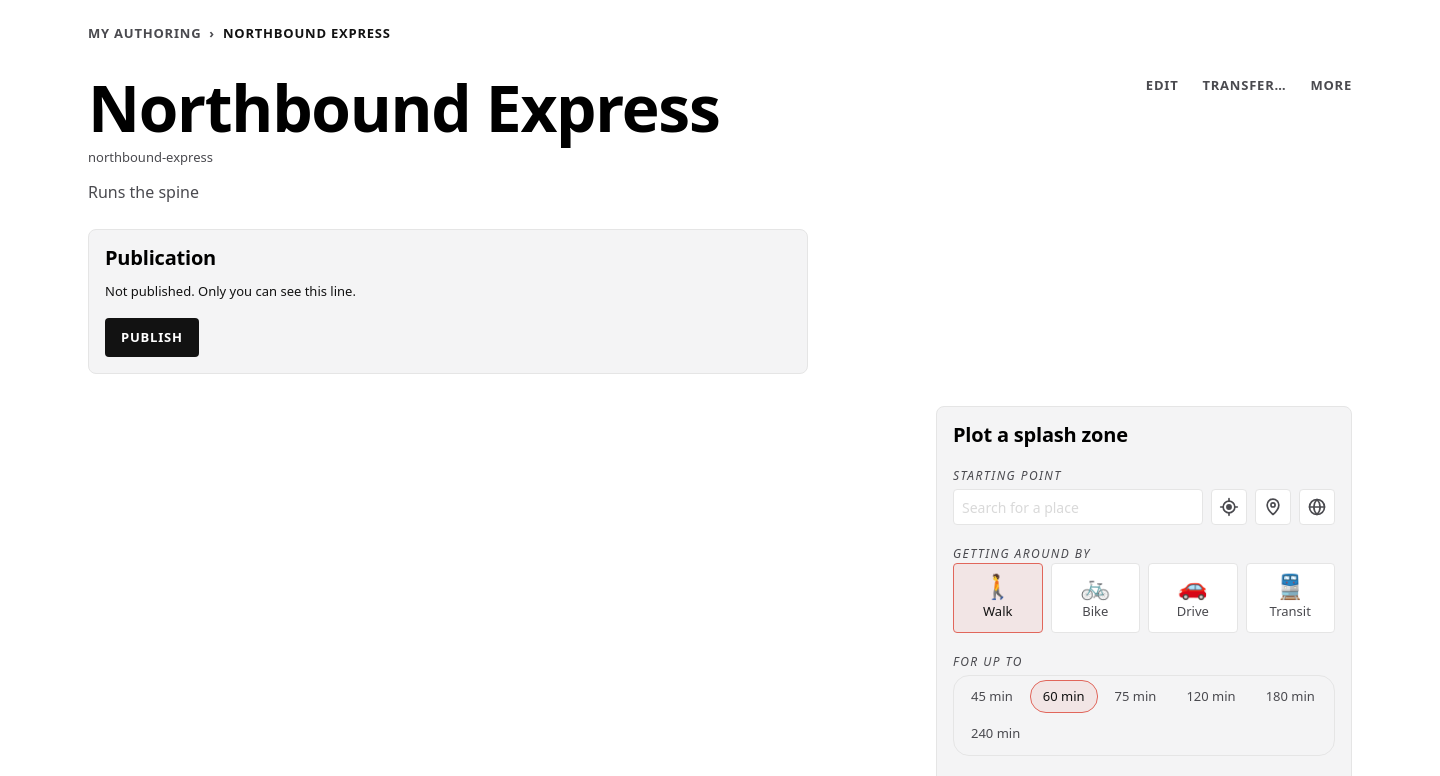
Test: AuthoredServiceView › reports a compile fault met while publishing where every compile fault goes
Click the button with test id "publish-button" at (152, 338), box [105,318,199,357]
(page scrolled)
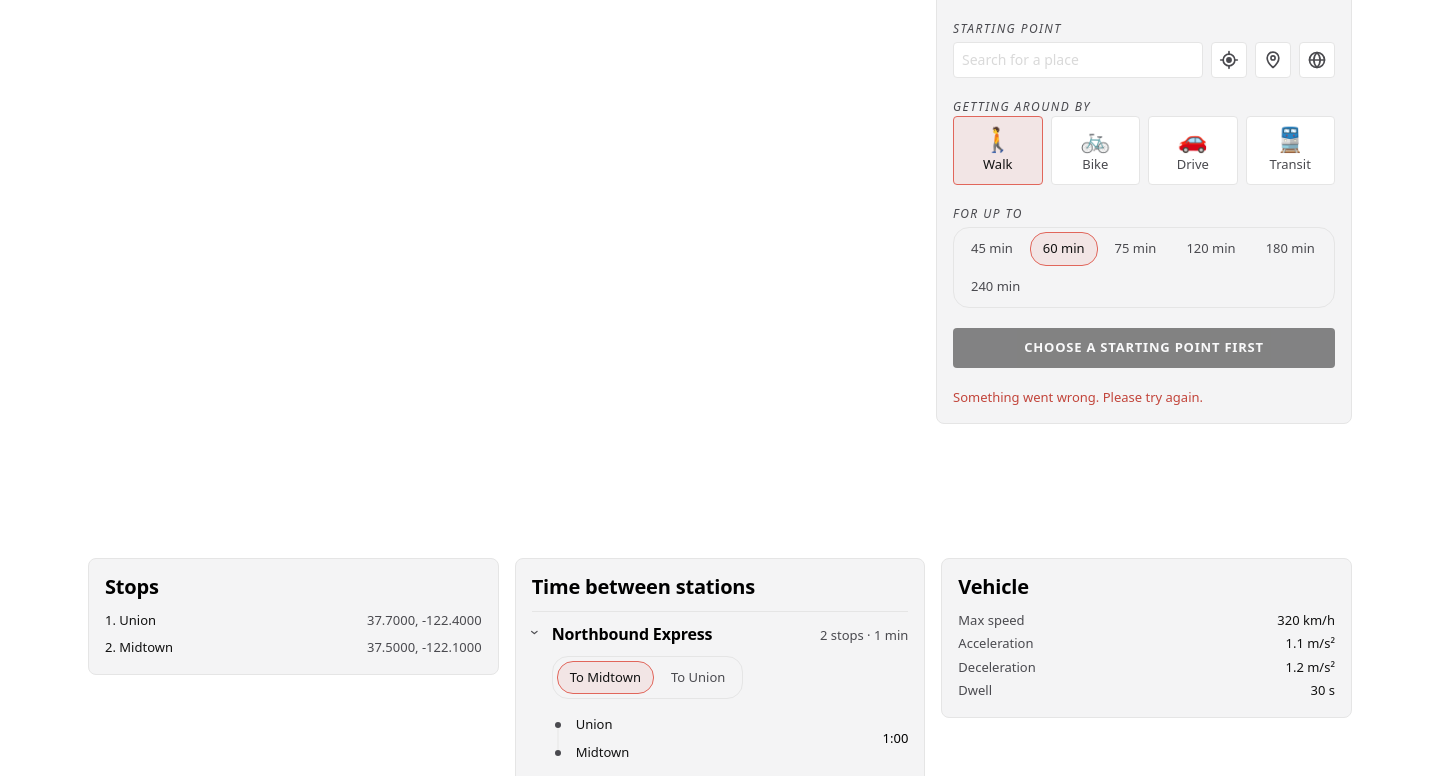
Now the message with test id "fetch-error" reads "Something went wrong. Please try again.", box [953,388,1203,406]
